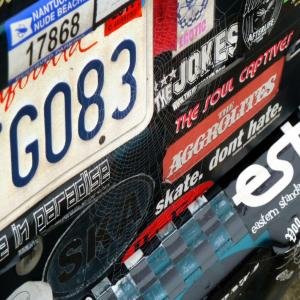Vehicle-registration-plate: (2, 1, 170, 247)
